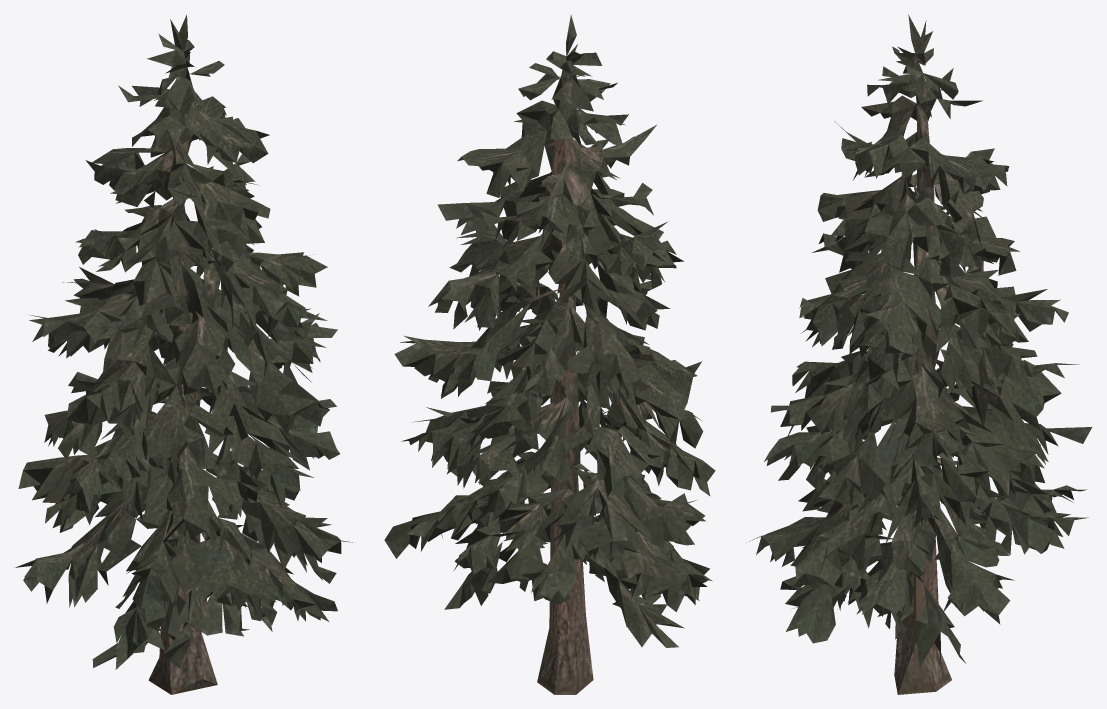
File: Spruce_Pine_Tree_7000.glb
3 renders of one model, left to right at view 1: azimuth 30°, elevation 25°; view 2: azimuth 150°, elevation 25°; view 3: azimuth 270°, elevation 25°, orthographic.
Visible parts, largest first — view 1: output_unwrapped; view 2: output_unwrapped; view 3: output_unwrapped.
Part boxes in pixels (left/top/right/bottom): output_unwrapped: left=14, top=14, right=352, bottom=694; output_unwrapped: left=384, top=14, right=715, bottom=694; output_unwrapped: left=749, top=14, right=1092, bottom=694.
Bounding box in the file's own units: 5.61 × 11.5 × 5.42.
Materials: 1 (1 with a texture image).
